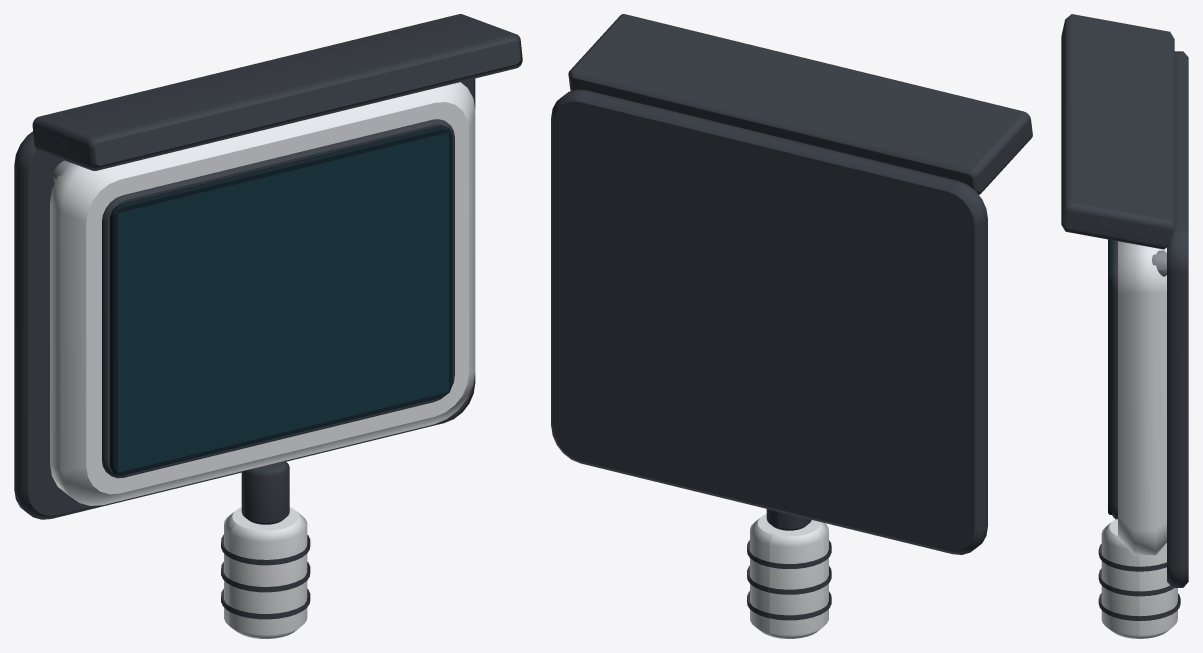
File: thermometre.glb
3 views of the same model, side by side, from view 1: azimuth 30°, elevation 25°; view 2: azimuth 150°, elevation 25°; view 3: azimuth 270°, elevation 25° (orthographic). The views are drawn at different scales.
Visible parts, largest first — view 1: ecran_affichage.002, pieces_meteo_cadre.002, pieces_meteo_boitier.002, pieces_meteo_ecran.002; view 2: pieces_meteo_cadre.002, pieces_meteo_boitier.002; view 3: pieces_meteo_cadre.002, pieces_meteo_boitier.002, pieces_meteo_ecran.002, pieces_meteo_mat.002.
Boxes of the visible parts, x1,y1,x2,y2 form: ecran_affichage.002: [118, 132, 448, 472]; pieces_meteo_cadre.002: [14, 14, 522, 619]; pieces_meteo_boitier.002: [50, 82, 475, 638]; pieces_meteo_ecran.002: [110, 126, 452, 475]; pieces_meteo_cadre.002: [551, 14, 1032, 620]; pieces_meteo_boitier.002: [750, 514, 828, 638]; pieces_meteo_cadre.002: [1061, 14, 1188, 620]; pieces_meteo_boitier.002: [1101, 241, 1177, 638]; pieces_meteo_ecran.002: [1108, 239, 1112, 514]; pieces_meteo_mat.002: [1152, 250, 1166, 276].
Size of the model in its own units: 0.44 by 0.5237 by 0.117.
